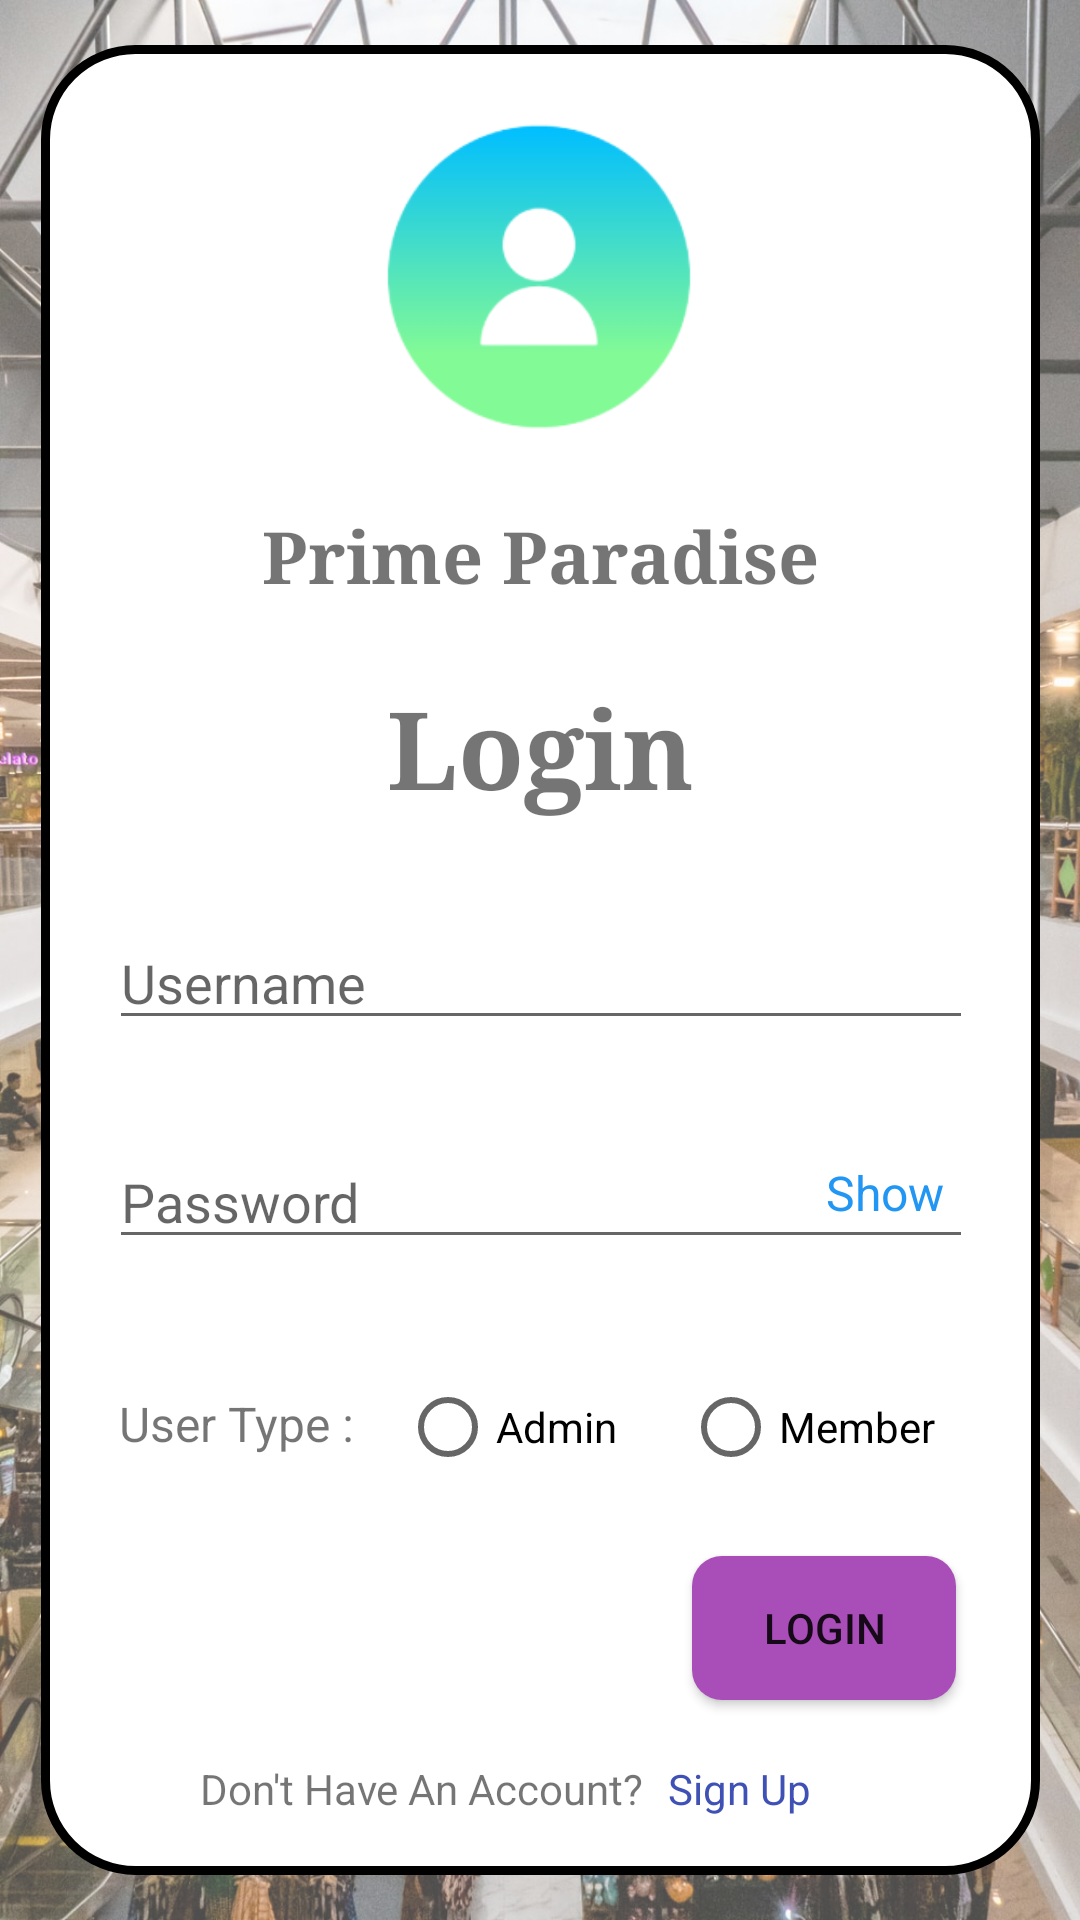

Screen size 1080×1920. Icon name, then its center in pixels as (x,y):
usericon: (539,276)
